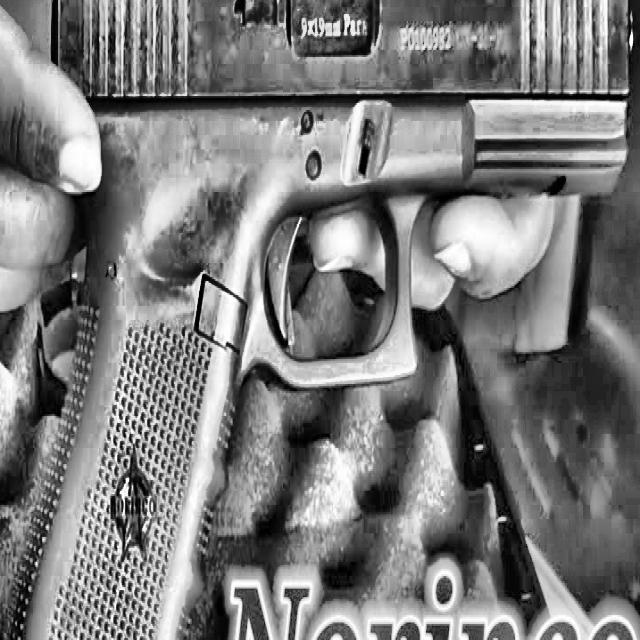Norinco: (0, 0, 635, 640)
